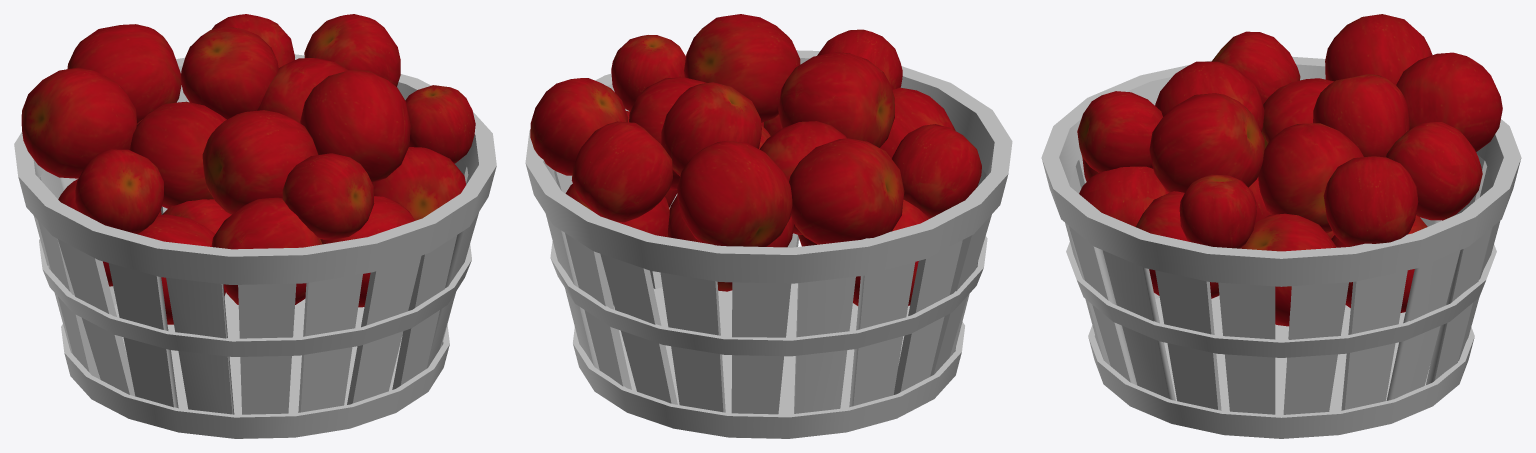
Rendered from SM_Basket_01.fbx.
The picture shows the model from 3 angles, left to right: view 1: azimuth 30°, elevation 25°; view 2: azimuth 150°, elevation 25°; view 3: azimuth 270°, elevation 25°; orthographic projection. The views are drawn at different scales.
Parts seen in each view (by area): view 1: SM_Basket_05; view 2: SM_Basket_05; view 3: SM_Basket_05.
Boxes of the visible parts, box(x1,y1,x2,y2) form: SM_Basket_05: box(14, 14, 496, 438); SM_Basket_05: box(525, 14, 1012, 438); SM_Basket_05: box(1041, 14, 1521, 438).
Size of the model in its own units: 44.22 by 29.67 by 44.22.
